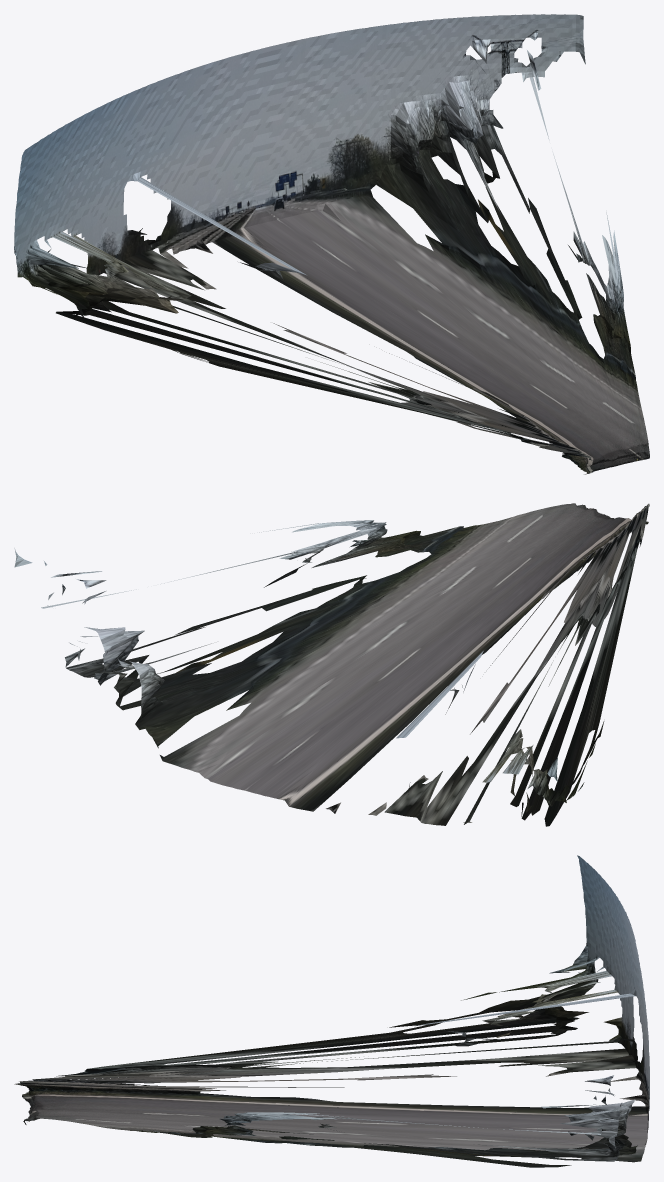
3 renders of one model, top to bottom at view 1: azimuth 30°, elevation 25°; view 2: azimuth 150°, elevation 25°; view 3: azimuth 270°, elevation 25°, orthographic. The views are drawn at different scales.
Visible parts, largest first — view 1: defaultobject; view 2: defaultobject; view 3: defaultobject.
Part boxes in pixels (x1=…): defaultobject: x1=14, y1=14, x2=649, y2=474; defaultobject: x1=14, y1=503, x2=649, y2=826; defaultobject: x1=14, y1=855, x2=649, y2=1167.
Size of the model in its own units: 40.91 by 12.85 by 45.24.
1 material, 1 textured.
